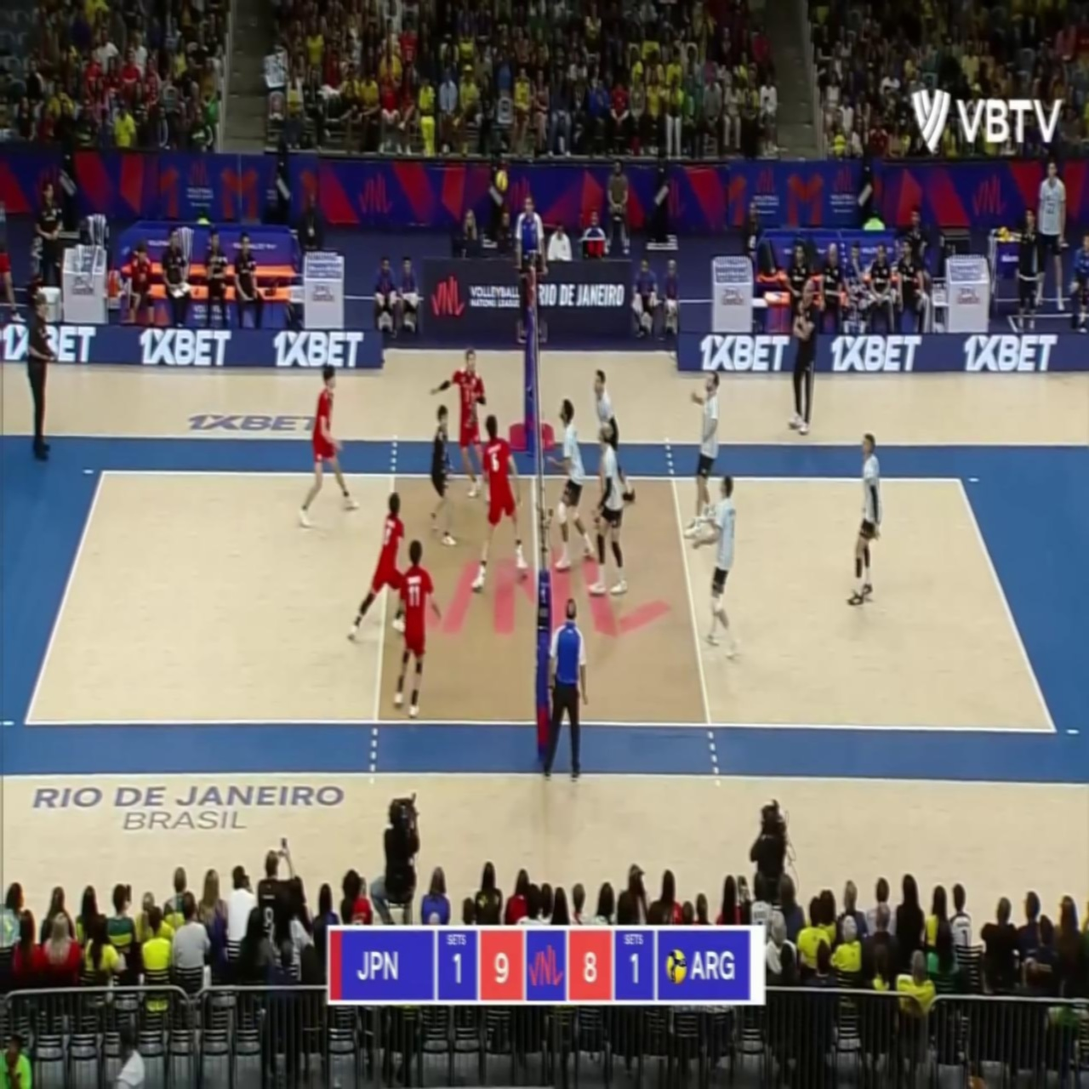ball: (497, 169, 507, 191)
